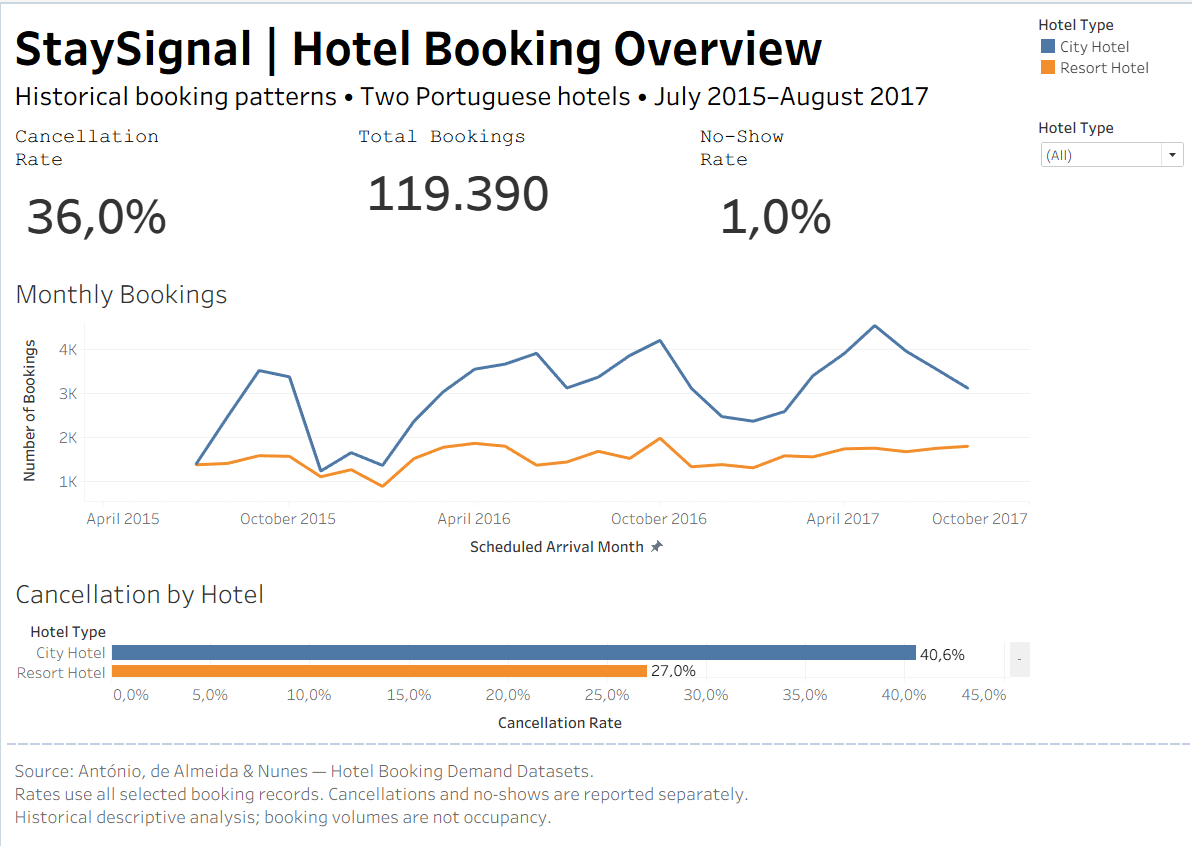

The page's visual inventory and layout, read from the dashboard file:
{"tool":"tableau","page":{"name":"Hotel Booking Overview","canvas":[1200,850],"ordinal":0},"visuals":[{"type":"title","box":[8,8,1059,100]},{"type":"legend","title":"Monthly Bookings","param":"[federated.10f5fem0ac0h5h1cdp9th17dxh8p].[none:hotel_type:nk]","box":[1067,8,125,103]},{"type":"worksheet","title":"KPI - Cancellation Rate","mark":"Automatic","box":[8,108,353,158]},{"type":"worksheet","title":"KPI - Total Bookings","mark":"Automatic","box":[361,108,353,158]},{"type":"worksheet","title":"KPI - No-Show Rate","mark":"Automatic","box":[714,108,353,158]},{"type":"filter","title":"Monthly Bookings","param":"[federated.10f5fem0ac0h5h1cdp9th17dxh8p].[none:hotel_type:nk]","box":[1067,111,125,61]},{"type":"worksheet","title":"Monthly Bookings","mark":"Line","rows":["booking_count"],"cols":["arrival_date"],"box":[8,266,1059,300]},{"type":"worksheet","title":"Cancellation by Hotel","mark":"Bar","rows":["hotel_type"],"cols":["Calculation_1820301117423616"],"box":[8,566,1059,176]},{"type":"text","box":[8,742,1184,100]}]}

Visuals, with their boxes in screenshot pixels (x1, y1, x2, y2), scaled from the page's 1200x850 canvas onto the 1192x846 screenshot:
title: x1=8, y1=8, x2=1060, y2=107
"Monthly Bookings" legend: x1=1060, y1=8, x2=1184, y2=110
"KPI - Cancellation Rate" worksheet: x1=8, y1=107, x2=359, y2=265
"KPI - Total Bookings" worksheet: x1=359, y1=107, x2=709, y2=265
"KPI - No-Show Rate" worksheet: x1=709, y1=107, x2=1060, y2=265
"Monthly Bookings" filter: x1=1060, y1=110, x2=1184, y2=171
"Monthly Bookings" worksheet (Line marks): x1=8, y1=265, x2=1060, y2=563
"Cancellation by Hotel" worksheet (Bar marks): x1=8, y1=563, x2=1060, y2=739
text: x1=8, y1=739, x2=1184, y2=838
